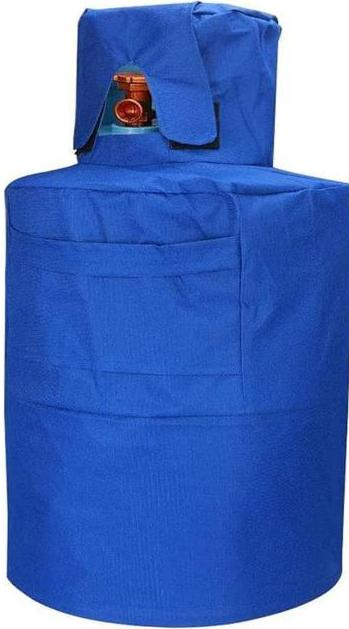cylinder: (1, 0, 349, 629)
